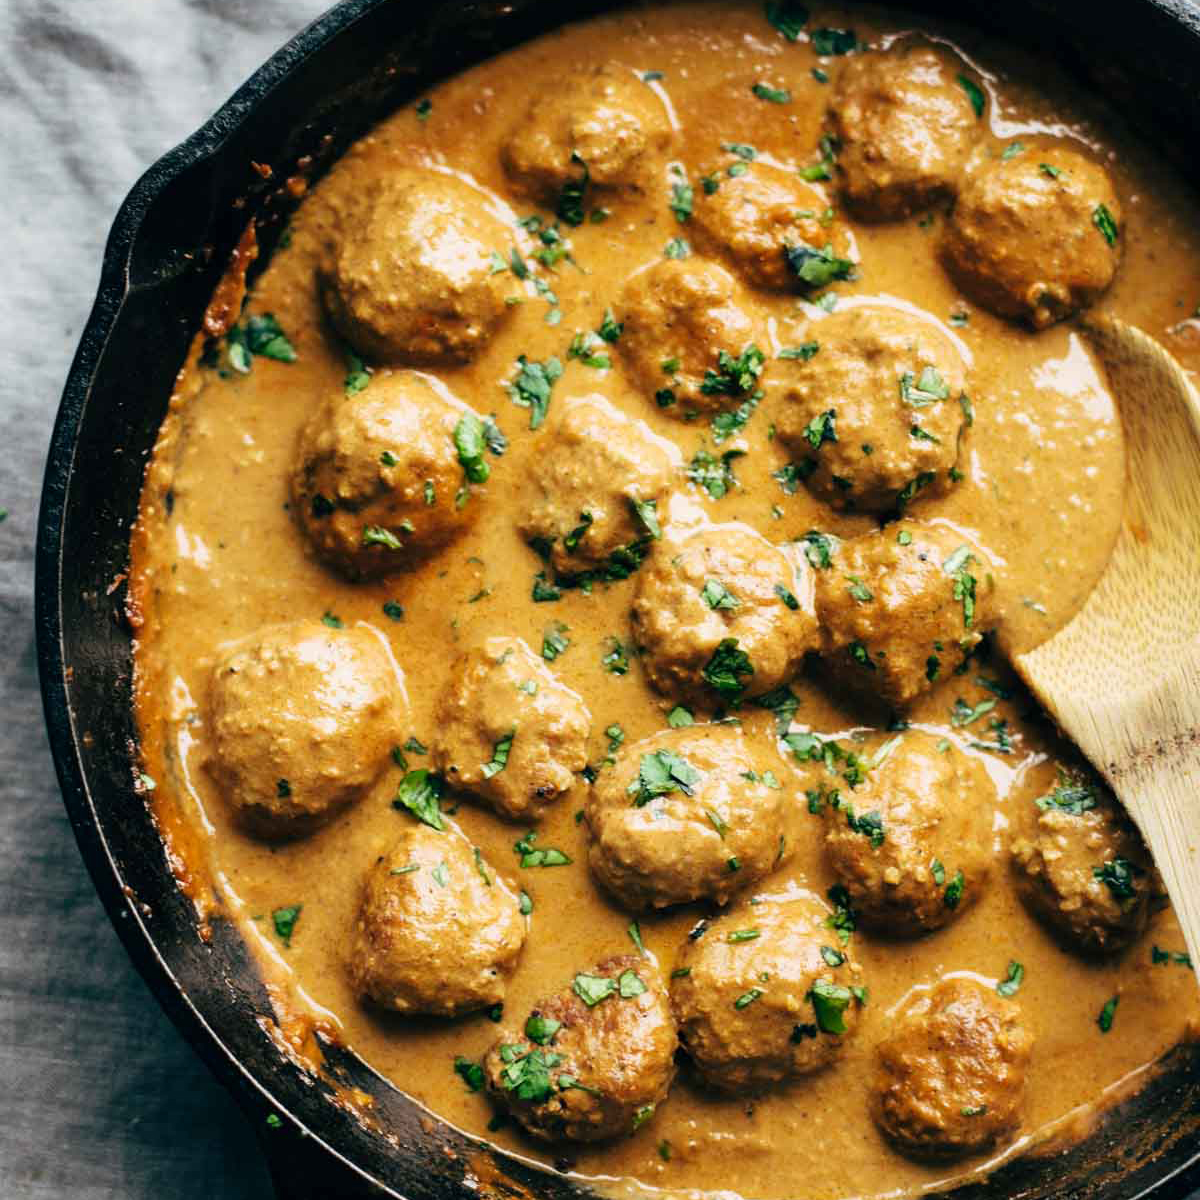meatballs: (244, 52, 1142, 1144)
